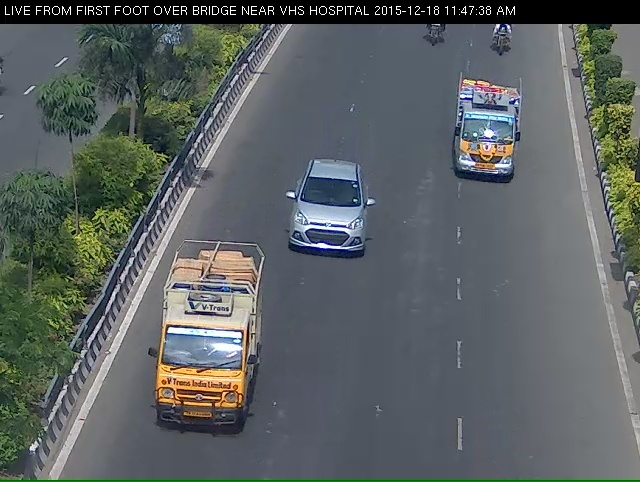Car: (145, 260, 260, 466), (277, 167, 379, 285), (456, 80, 524, 192)
